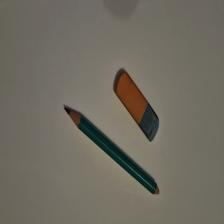eraser: (115, 72, 160, 144)
pencil: (65, 108, 160, 196)
